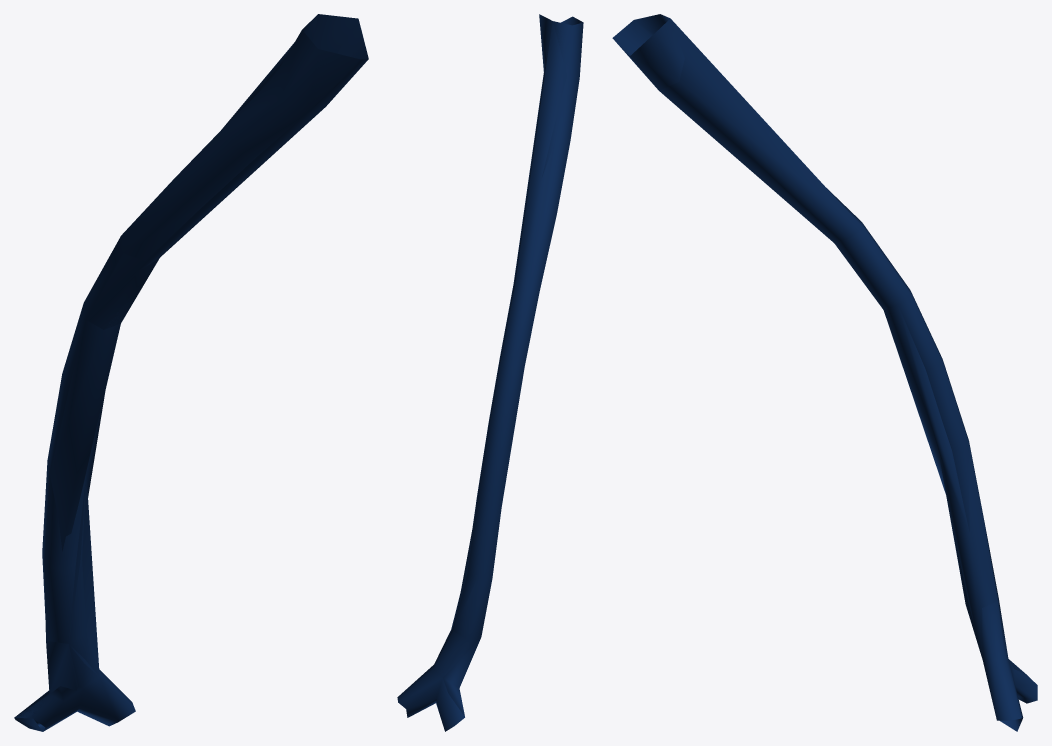
File: L vena ramus caudalis.fbx
The picture shows the model from 3 angles, left to right: view 1: azimuth 30°, elevation 25°; view 2: azimuth 150°, elevation 25°; view 3: azimuth 270°, elevation 25°; orthographic projection. The views are drawn at different scales.
Visible parts, largest first — view 1: L vena ramus caudalis, L vena ramus caudalis low; view 2: L vena ramus caudalis, L vena ramus caudalis low; view 3: L vena ramus caudalis low, L vena ramus caudalis.
Boxes of the visible parts, box(x1,y1,x2,y2) form: L vena ramus caudalis: box(14, 14, 368, 731); L vena ramus caudalis low: box(14, 14, 367, 731); L vena ramus caudalis: box(397, 14, 583, 731); L vena ramus caudalis low: box(435, 18, 581, 716); L vena ramus caudalis low: box(612, 14, 1024, 673); L vena ramus caudalis: box(613, 14, 1037, 731).
Bounding box in the file's own units: 1.33 × 8.61 × 4.65.
